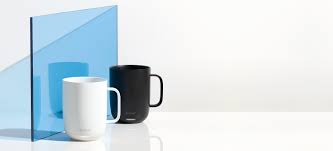cup: (58, 74, 123, 143)
